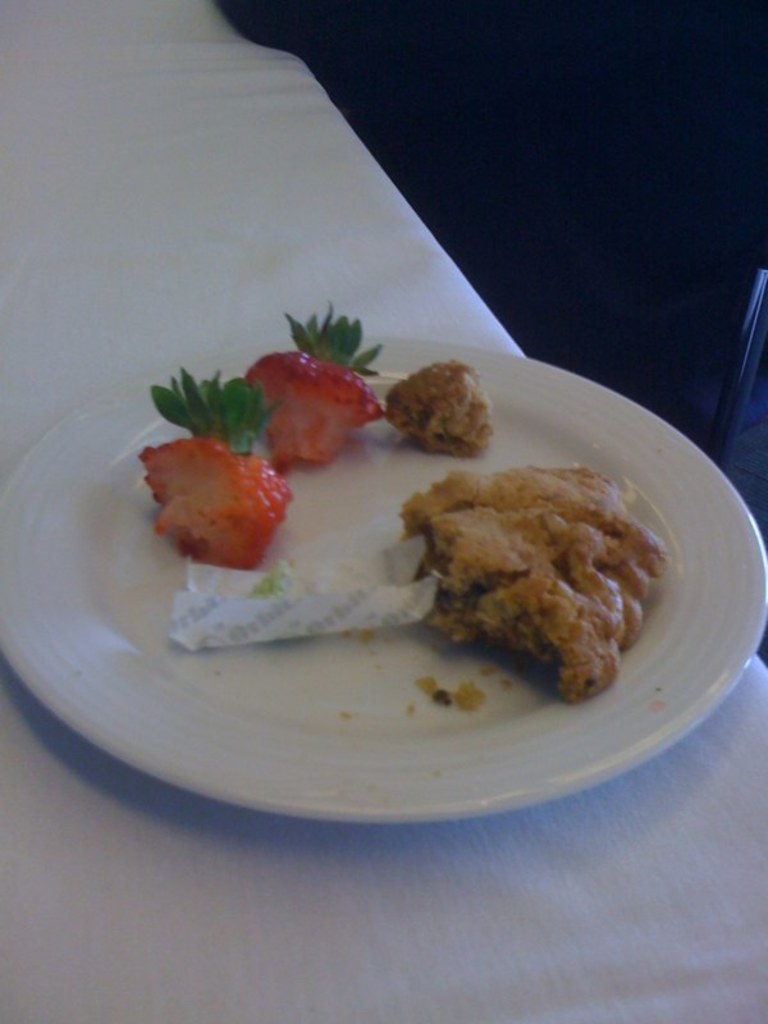plate: (0, 225, 765, 832)
